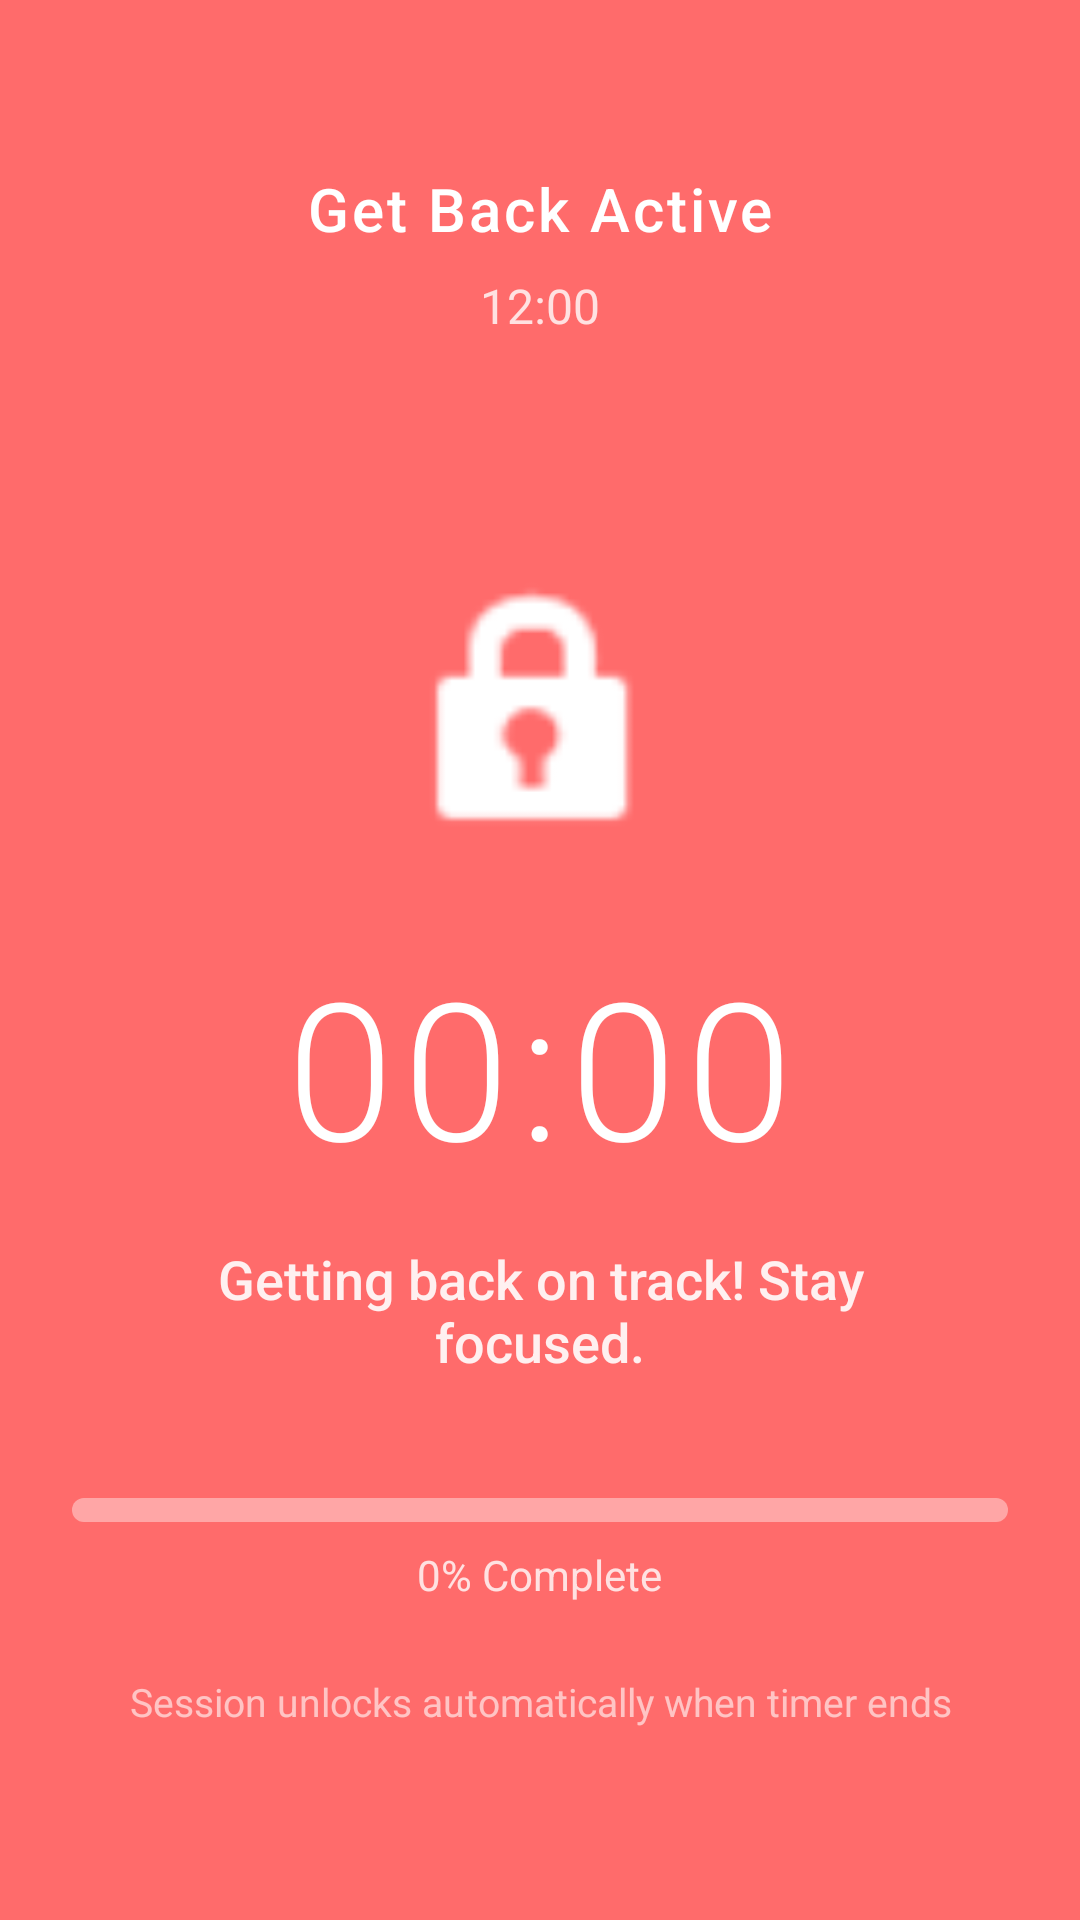

Screen size 1080*1920. Icon name, then its center in pixels as (x=x, y=y):
lock idle: (x=533, y=707)
